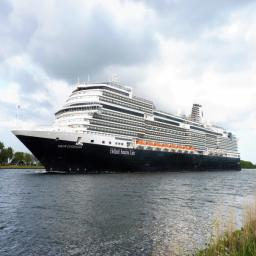cruises: (11, 75, 245, 175)
